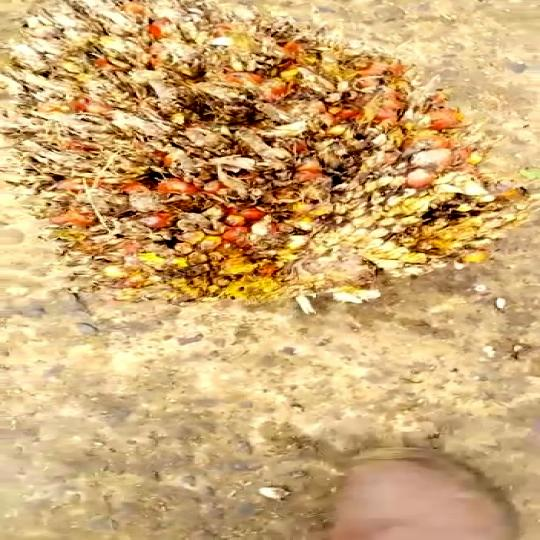terlalu masak: (0, 0, 528, 310)
